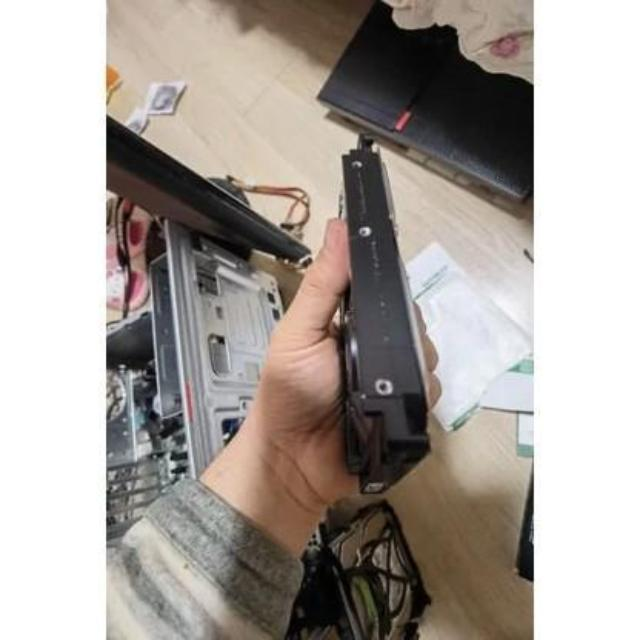DISK: (319, 134, 452, 480)
